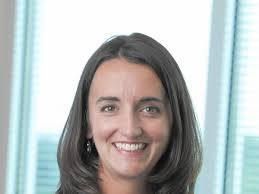normalEye: (90, 91, 169, 123)
normalMouth: (103, 135, 160, 159)
